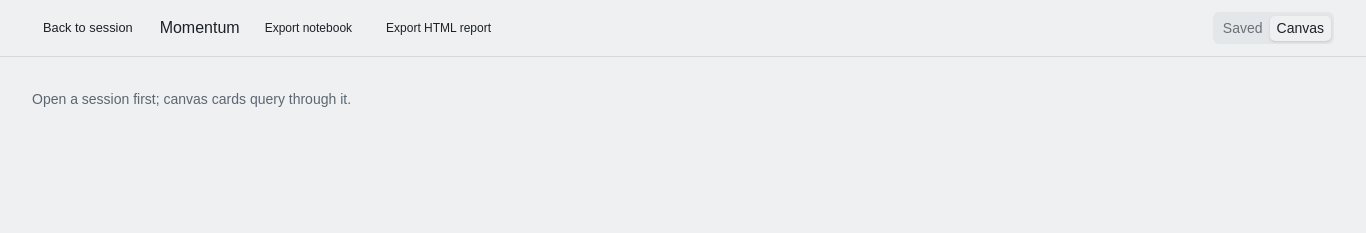
Test: ProjectPage downloads › asks for a dataset's recipe and shows a failure beside its button
Click the tab "Saved".
click(1243, 28)  # box [1216, 16, 1270, 40]
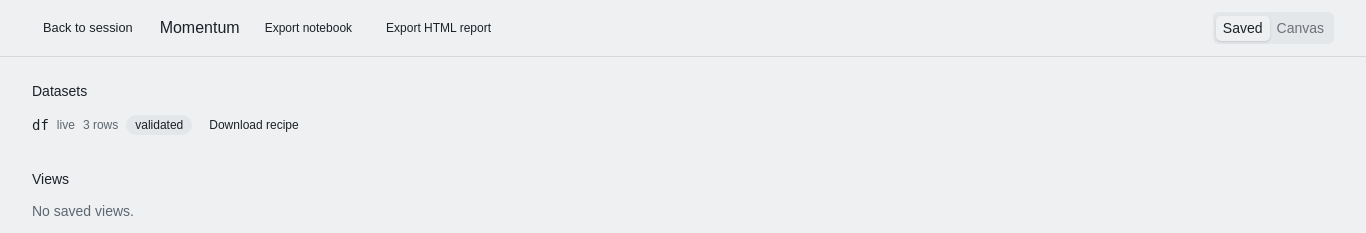
Click the button with aria-label "Download recipe df".
click(254, 125)  # box [200, 113, 308, 137]
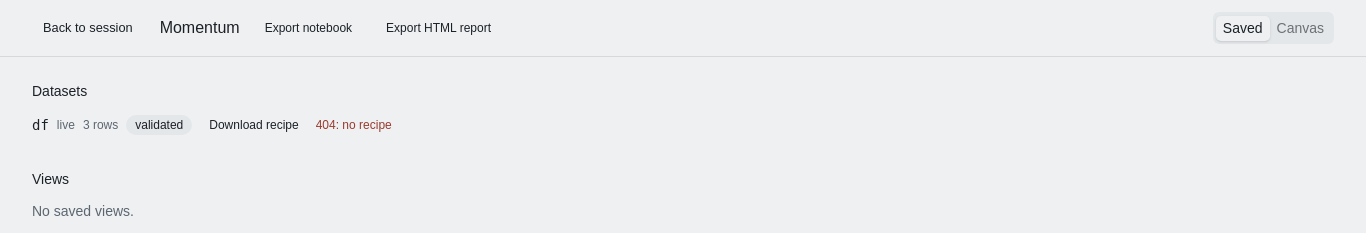
Check: the text "404: no recipe" is shown, box [316, 117, 392, 133]
